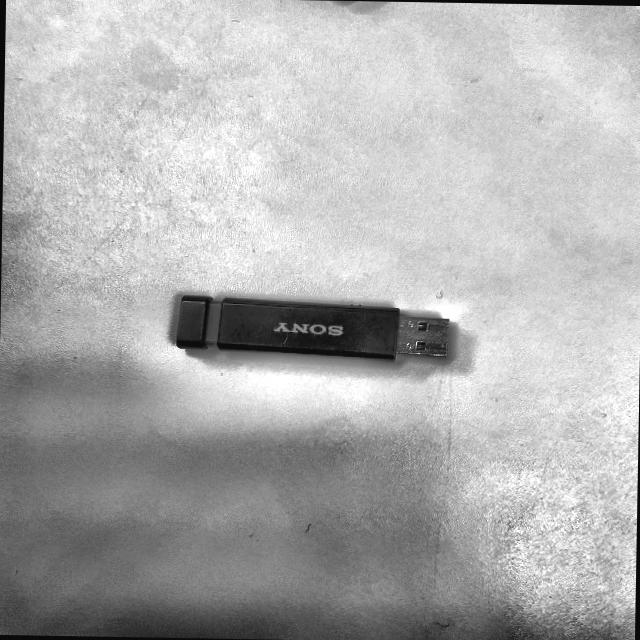Mug: (156, 284, 471, 376)
